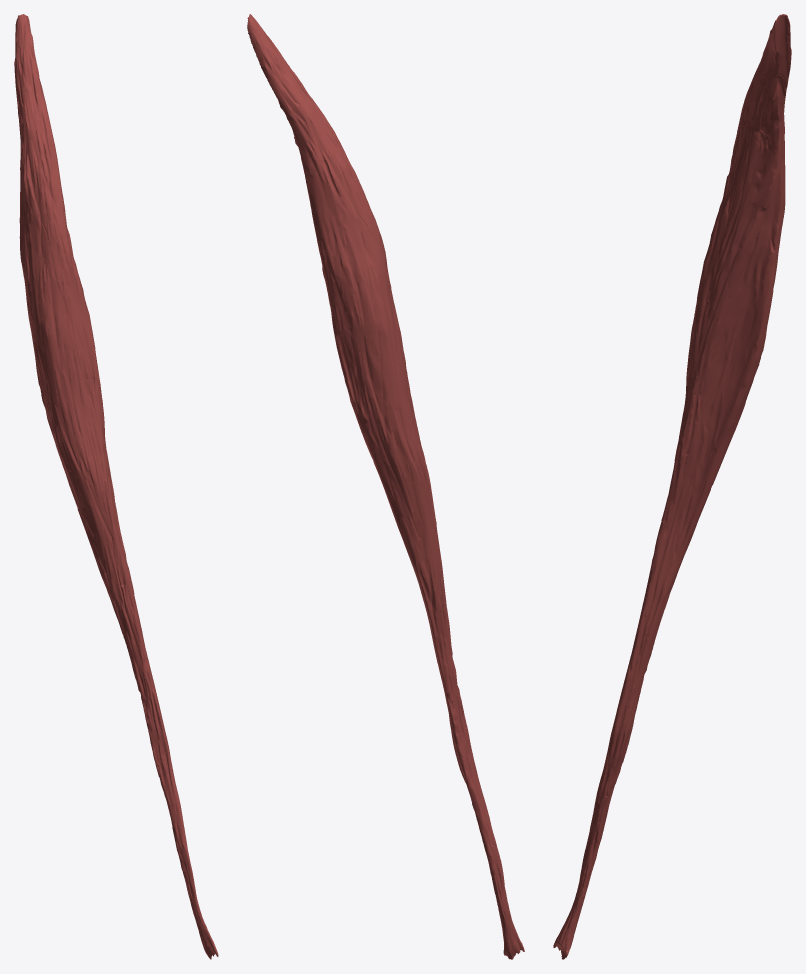
Rendered from FMA38495.glb.
3 views of the same model, side by side, from view 1: azimuth 90°, elevation 25°; view 2: azimuth 150°, elevation 25°; view 3: azimuth 270°, elevation 25° (orthographic). The views are drawn at different scales.
Visible parts, largest first — view 1: FMA38495; view 2: FMA38495; view 3: FMA38495.
Part boxes in pixels (x1,y1,x2,y2): FMA38495: (14,14,218,959); FMA38495: (247,14,524,959); FMA38495: (553,14,791,959).
Size of the model in its own units: 0.0578 by 0.3226 by 0.068.
